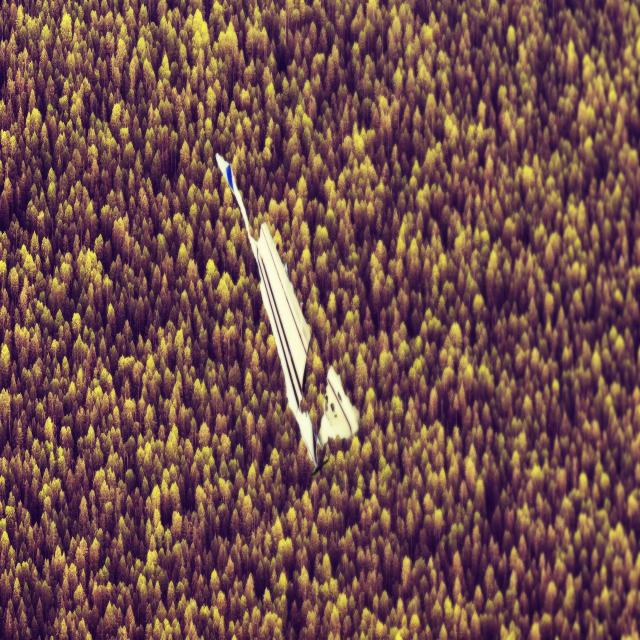airplane: (215, 152, 360, 475)
